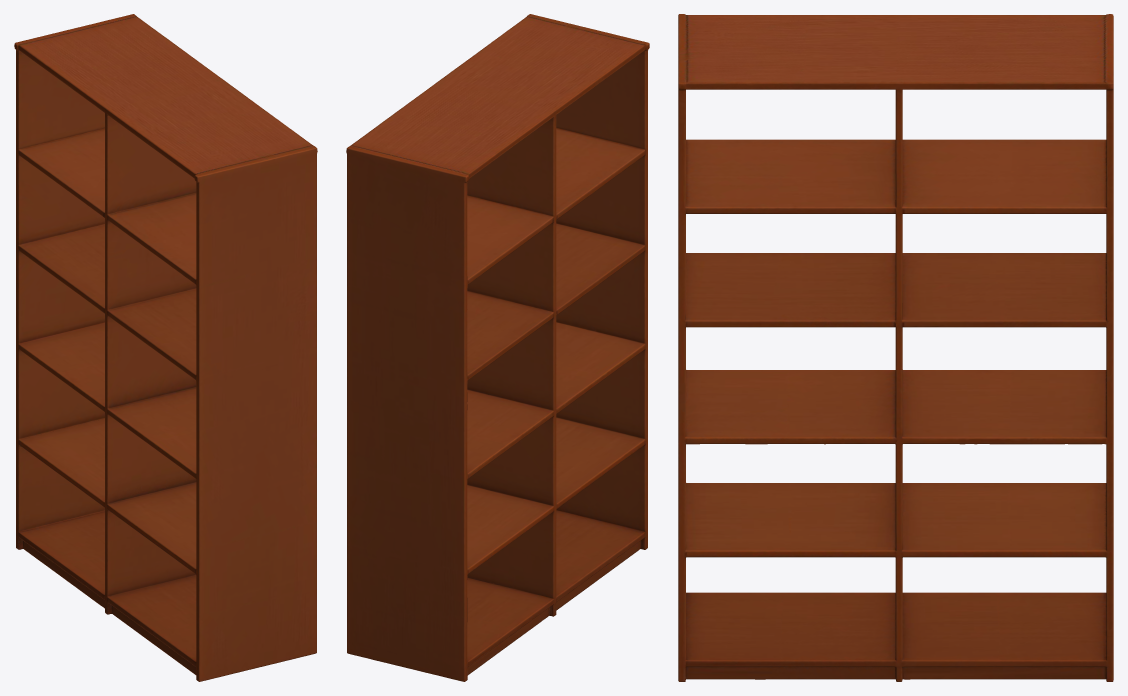
File: Tu_khong_canh.fbx
3 views of the same model, side by side, from view 1: azimuth 30°, elevation 25°; view 2: azimuth 150°, elevation 25°; view 3: azimuth 270°, elevation 25° (orthographic). The views are drawn at different scales.
Visible parts, largest first — view 1: tripo_node_30a2cb74; view 2: tripo_node_30a2cb74; view 3: tripo_node_30a2cb74.
Part boxes in pixels (left/top/right/bottom): tripo_node_30a2cb74: left=14, top=14, right=317, bottom=681; tripo_node_30a2cb74: left=346, top=14, right=649, bottom=681; tripo_node_30a2cb74: left=678, top=14, right=1113, bottom=681.
Size of the model in its own units: 0.2498 by 1 by 0.6581.
